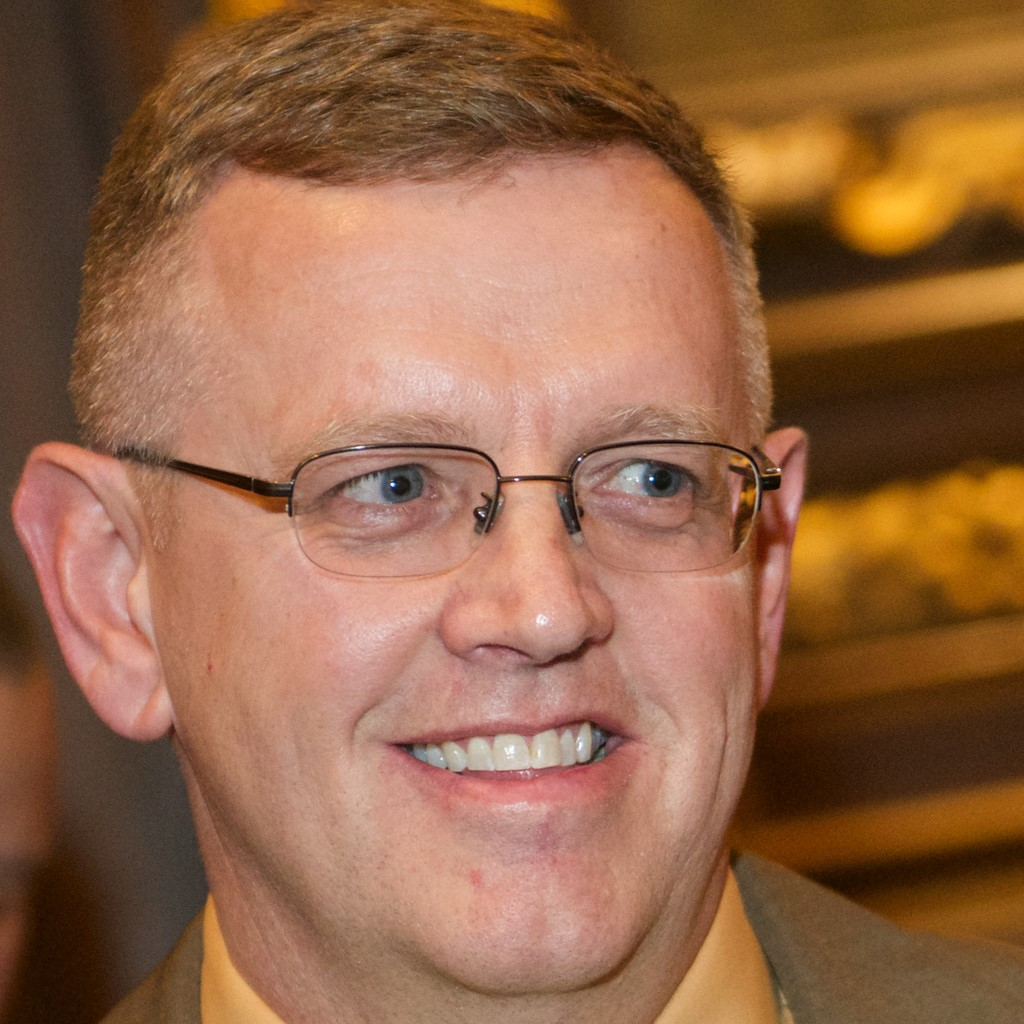sin_mascara: (109, 108, 763, 987)
